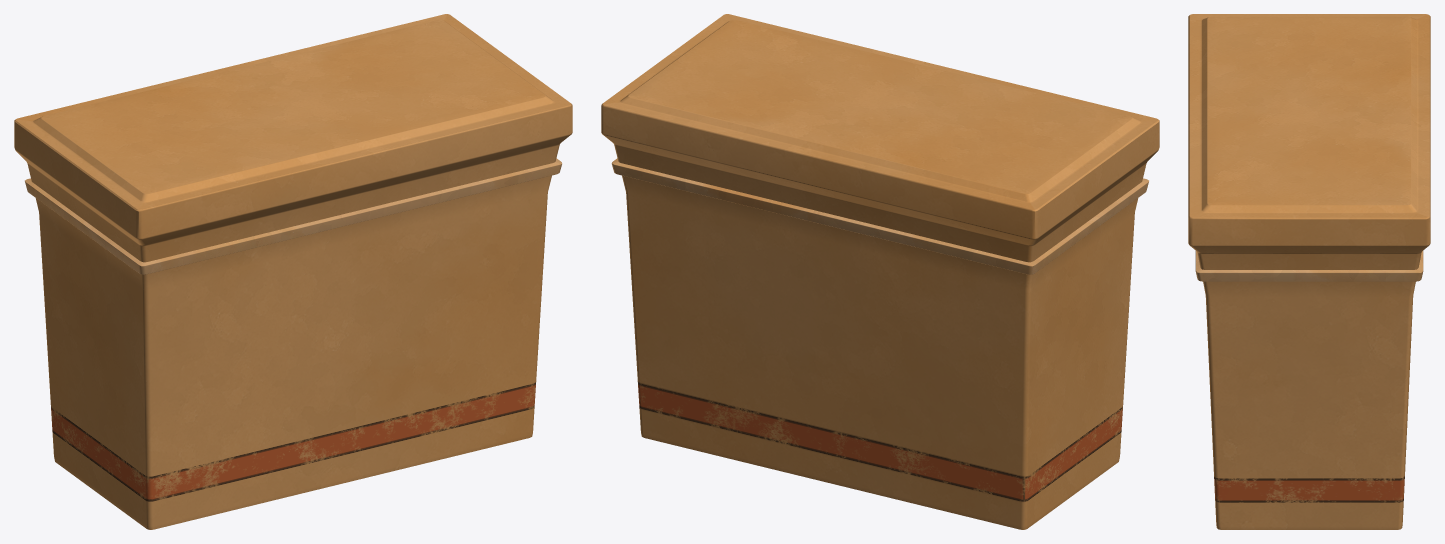
File: SM_Env_Stand_B.fbx
The picture shows the model from 3 angles, left to right: view 1: azimuth 30°, elevation 25°; view 2: azimuth 150°, elevation 25°; view 3: azimuth 270°, elevation 25°; orthographic projection. The views are drawn at different scales.
Visible parts, largest first — view 1: Stand_B; view 2: Stand_B; view 3: Stand_B.
Part boxes in pixels (x1=…): Stand_B: x1=14, y1=14, x2=572, y2=529; Stand_B: x1=601, y1=14, x2=1159, y2=529; Stand_B: x1=1188, y1=14, x2=1430, y2=529.
Size of the model in its own units: 200 by 150 by 100.
Materials: 1 (1 with a texture image).
